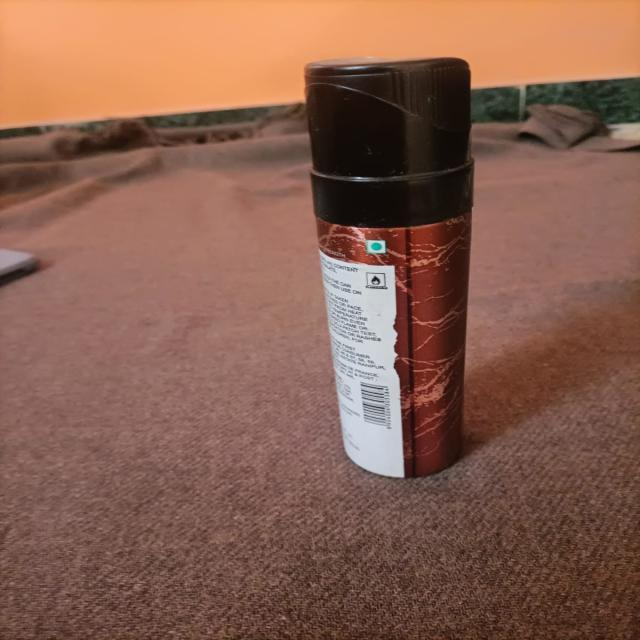spray: (225, 14, 562, 535)
